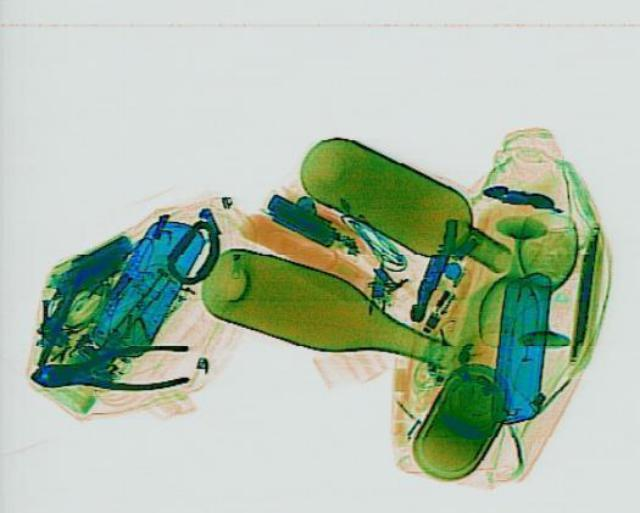Pliers: (27, 341, 192, 395)
